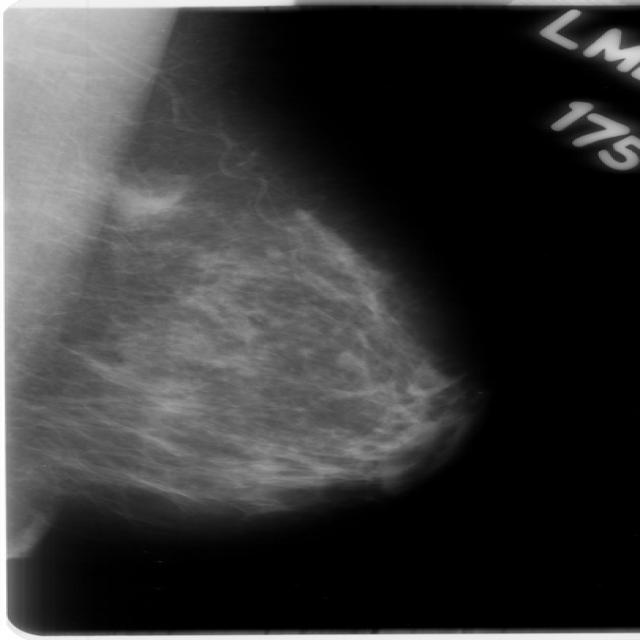tumour: (108, 184, 176, 220)
